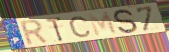7: (135, 5, 155, 33)
C: (68, 15, 93, 38)
M: (87, 11, 119, 38)
R: (19, 18, 50, 47)
S: (112, 8, 139, 35)
T: (45, 16, 65, 43)
